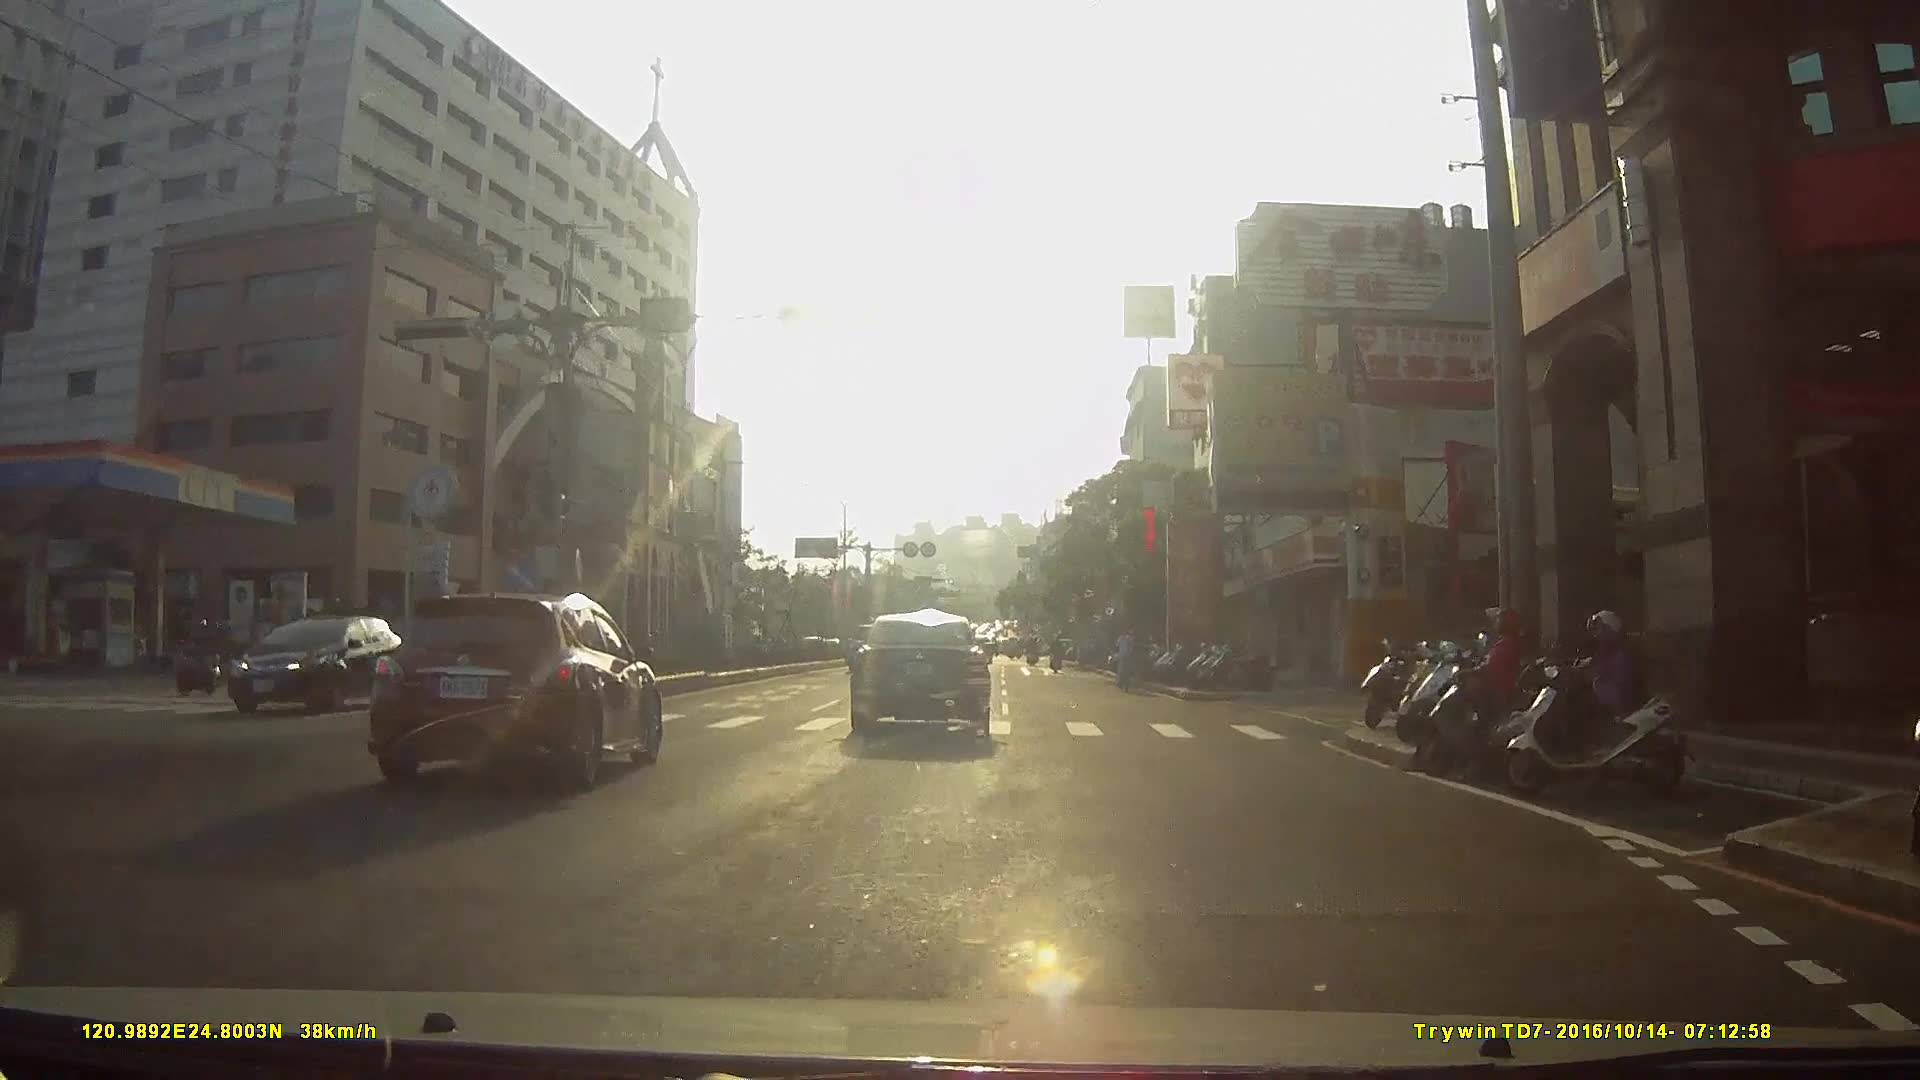rider: (1493, 607, 1699, 804), (1411, 602, 1589, 789), (176, 617, 222, 697), (1112, 624, 1141, 694)
vehicle: (369, 578, 676, 796), (217, 607, 430, 721), (843, 608, 996, 740), (763, 607, 822, 662)
